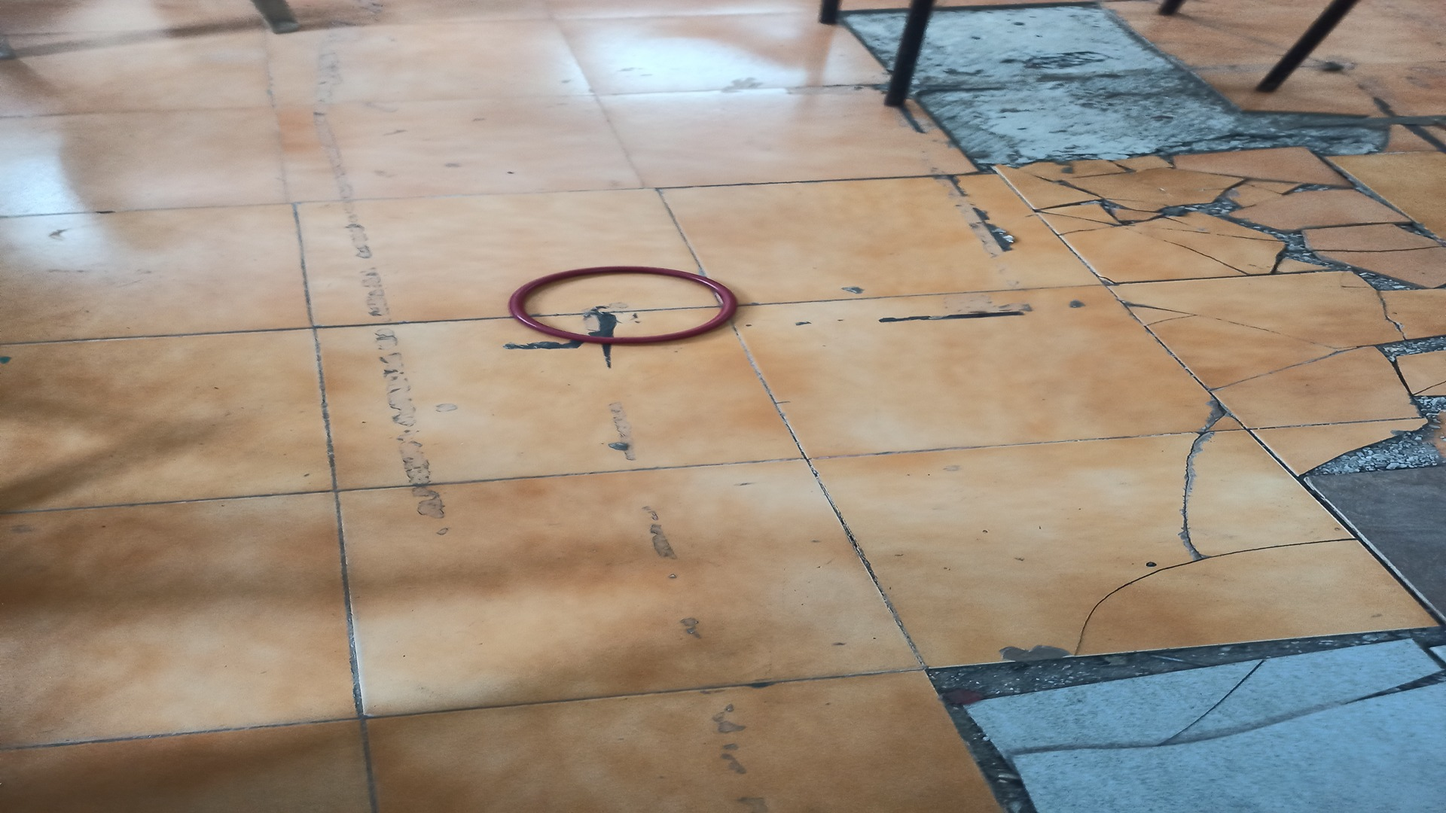Red ring: (511, 266, 740, 346)
